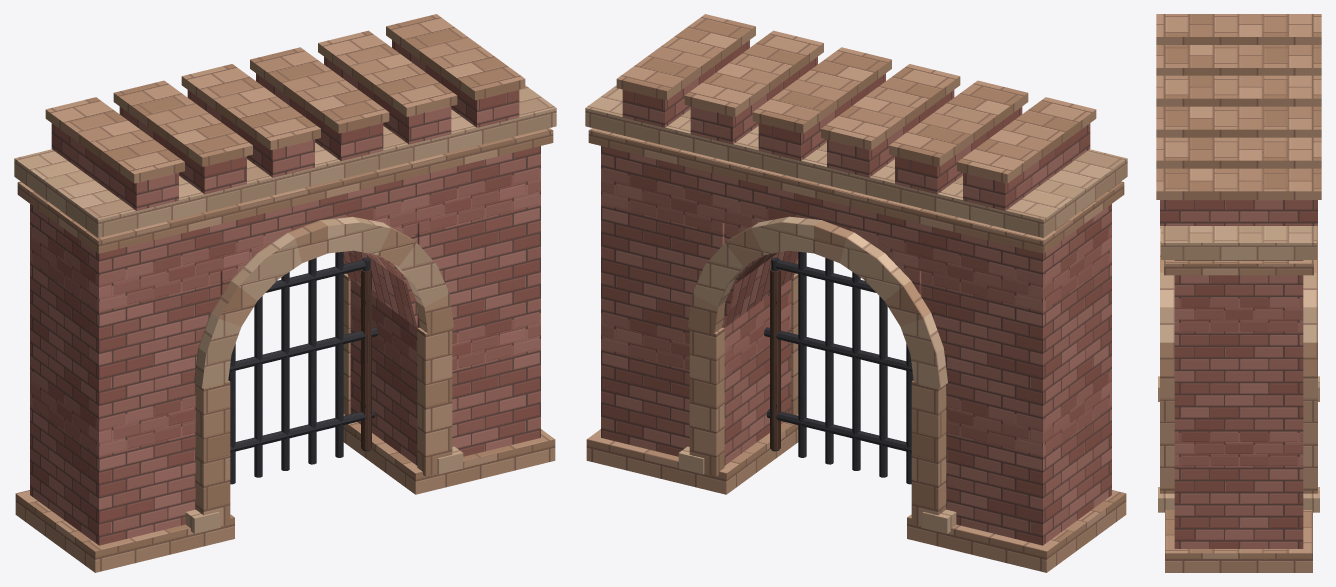
The model's file is Gatehouse_Iron_Gate.obj.
3 views of the same model, side by side, from view 1: azimuth 30°, elevation 25°; view 2: azimuth 150°, elevation 25°; view 3: azimuth 270°, elevation 25° (orthographic). The views are drawn at different scales.
Parts seen in each view (by area): view 1: Brick_Rose, Stone_Sand, Stone_Light, Iron_Black, Wood_Dark; view 2: Brick_Rose, Stone_Sand, Stone_Light, Iron_Black, Wood_Dark; view 3: Stone_Sand, Brick_Rose, Stone_Light.
Boxes of the visible parts, x1,y1,x2,y2 form: Brick_Rose: [30, 40, 540, 545]; Stone_Sand: [15, 14, 555, 572]; Stone_Light: [14, 85, 556, 533]; Iron_Black: [228, 251, 377, 484]; Wood_Dark: [361, 268, 371, 449]; Brick_Rose: [601, 40, 1111, 545]; Stone_Sand: [586, 14, 1126, 572]; Stone_Light: [585, 85, 1127, 533]; Iron_Black: [764, 251, 913, 484]; Wood_Dark: [770, 268, 780, 449]; Stone_Sand: [1156, 14, 1321, 572]; Brick_Rose: [1160, 200, 1317, 548]; Stone_Light: [1158, 226, 1319, 512].
Bounding box in the file's own units: 5 × 4.09 × 1.67.
Materials: 5 (5 with a texture image).
